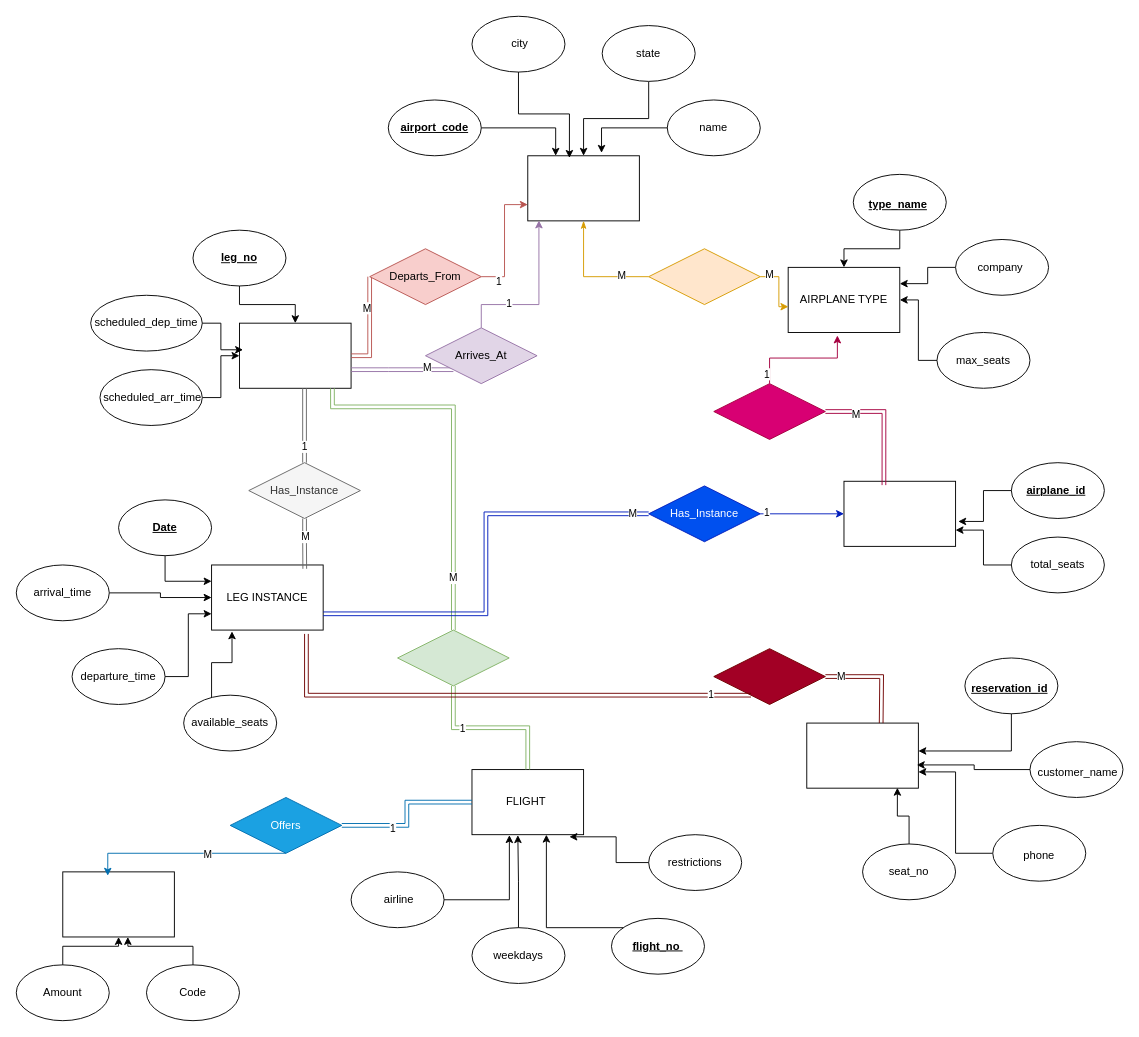
Some shapes in this 1139 by 1037 pixel diagram are drawn without their labels. Each missing label, with the centre of its shape:
AIRPLANE: the point at 899,513
AIRPORT: the point at 583,188
Allows: the point at 704,276
Belongs_To_Type: the point at 769,411
FARE: the point at 118,904
FLIGHT LEG: the point at 295,355
Has_Leg: the point at 453,657
Has_Reservation: the point at 769,676
SEAT / RESERVATION: the point at 862,755
